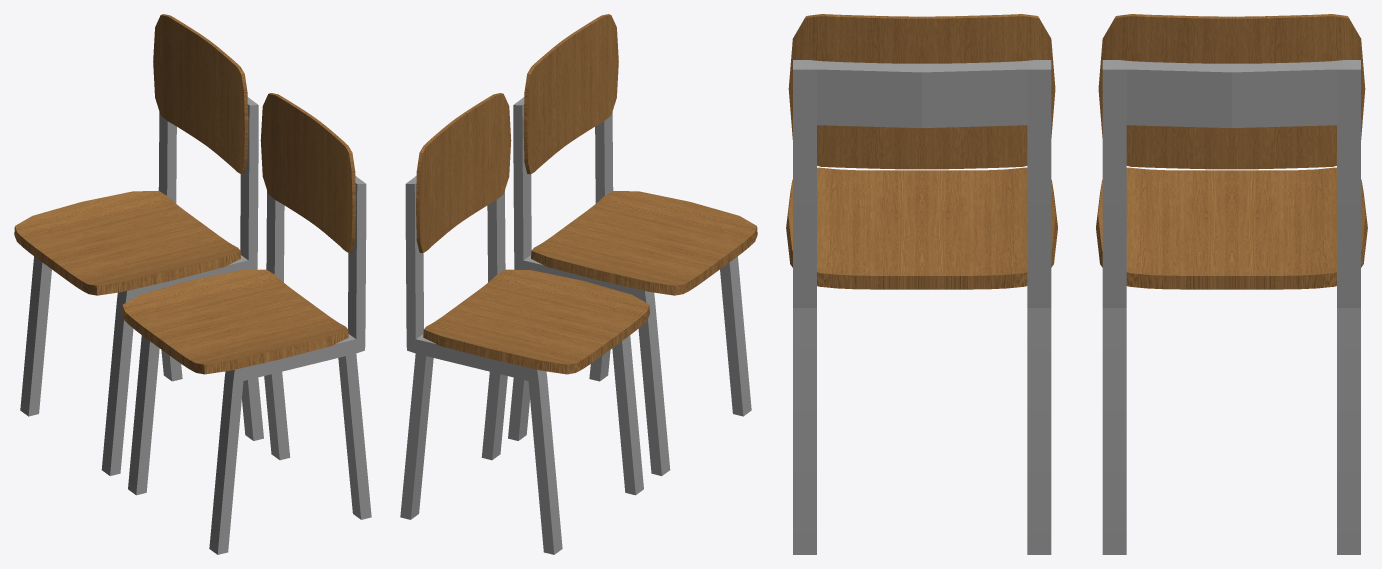
File: SillasD_DerDos.obj
The picture shows the model from 3 angles, left to right: view 1: azimuth 30°, elevation 25°; view 2: azimuth 150°, elevation 25°; view 3: azimuth 270°, elevation 25°; orthographic projection. The views are drawn at different scales.
Parts seen in each view (by area): view 1: group22_pasted__group11_pasted__pasted__group9_pasted__pasted__p; view 2: group22_pasted__group11_pasted__pasted__group9_pasted__pasted__p; view 3: group22_pasted__group11_pasted__pasted__group9_pasted__pasted__p.
Boxes of the visible parts, bbox=[...] form: group22_pasted__group11_pasted__pasted__group9_pasted__pasted__p: bbox=[14, 14, 371, 554]; group22_pasted__group11_pasted__pasted__group9_pasted__pasted__p: bbox=[400, 14, 757, 554]; group22_pasted__group11_pasted__pasted__group9_pasted__pasted__p: bbox=[786, 14, 1367, 554].
Bounding box in the file's own units: 0.8412 × 1.78 × 1.77.
Materials: 4 (4 with a texture image).
